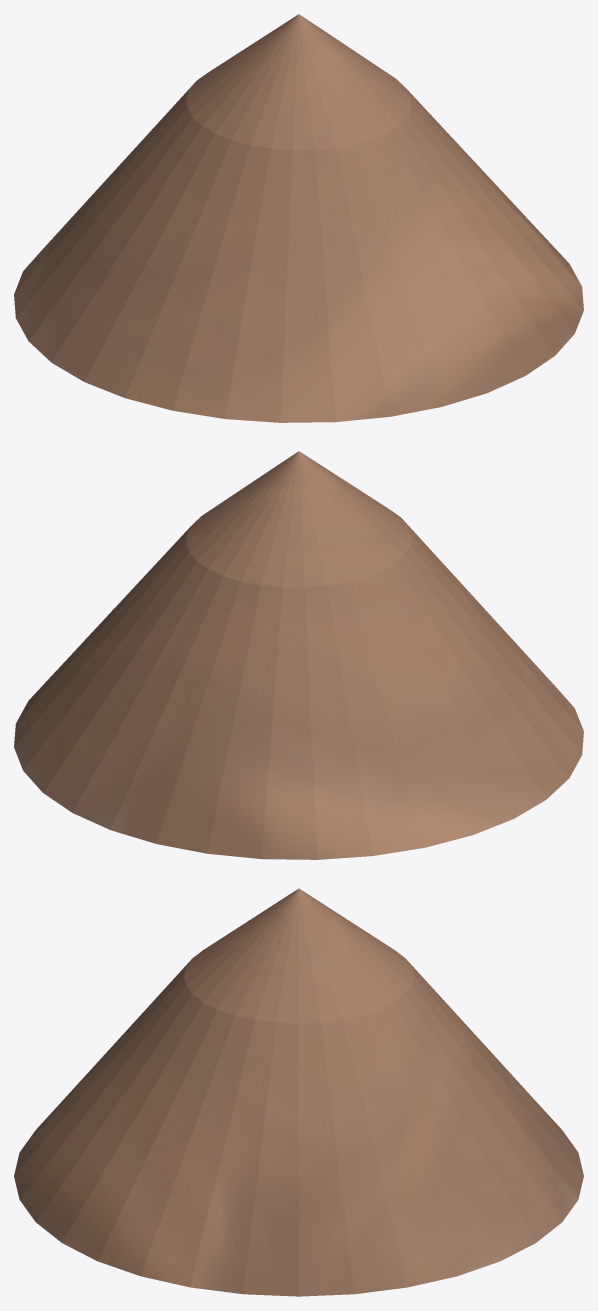
The model's file is shroom_crush.gltf.
3 views of the same model, one above another, from view 1: azimuth 30°, elevation 25°; view 2: azimuth 150°, elevation 25°; view 3: azimuth 270°, elevation 25° (orthographic).
Parts seen in each view (by area): view 1: powder; view 2: powder; view 3: powder.
Boxes of the visible parts, <box> form: powder: <box>14,14,583,422</box>; powder: <box>14,451,583,859</box>; powder: <box>14,888,583,1296</box>.
Size of the model in its own units: 5.69 by 3.17 by 5.69.
1 material, 1 textured.
